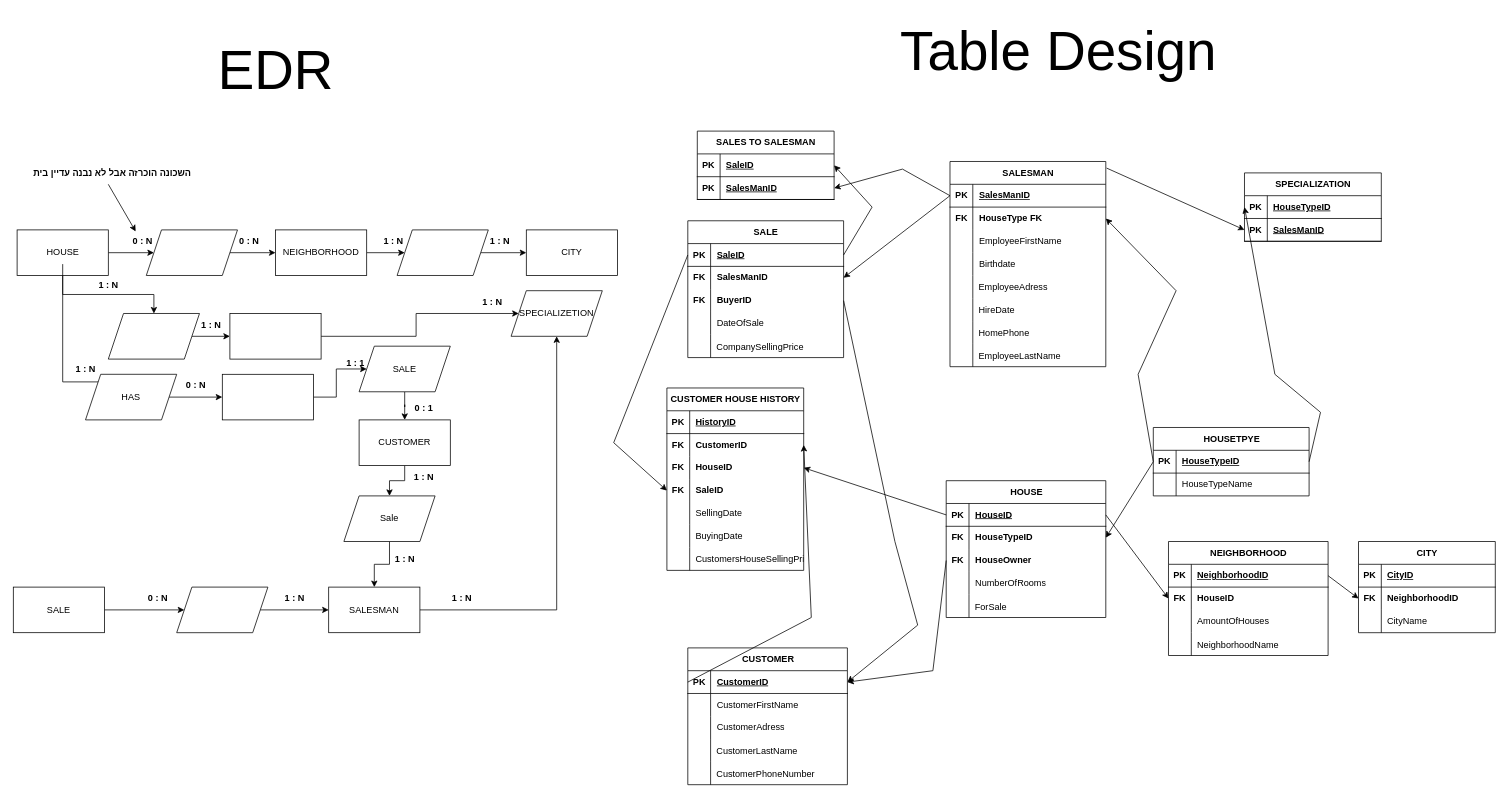
Some shapes in this 1509 by 798 pixel diagram are drawn without their labels. The shapes that lost their labels are listed below. From the top down, each one's centre as x and y in pixels, then its label:
At point (192, 252): "FOR SALE".
At point (442, 252): "PART OF".
At point (154, 336): "IS PART OF".
At point (275, 336): "HOUSE TYPE".
At point (268, 397): "ONWER".
At point (222, 609): "MADE BY".
